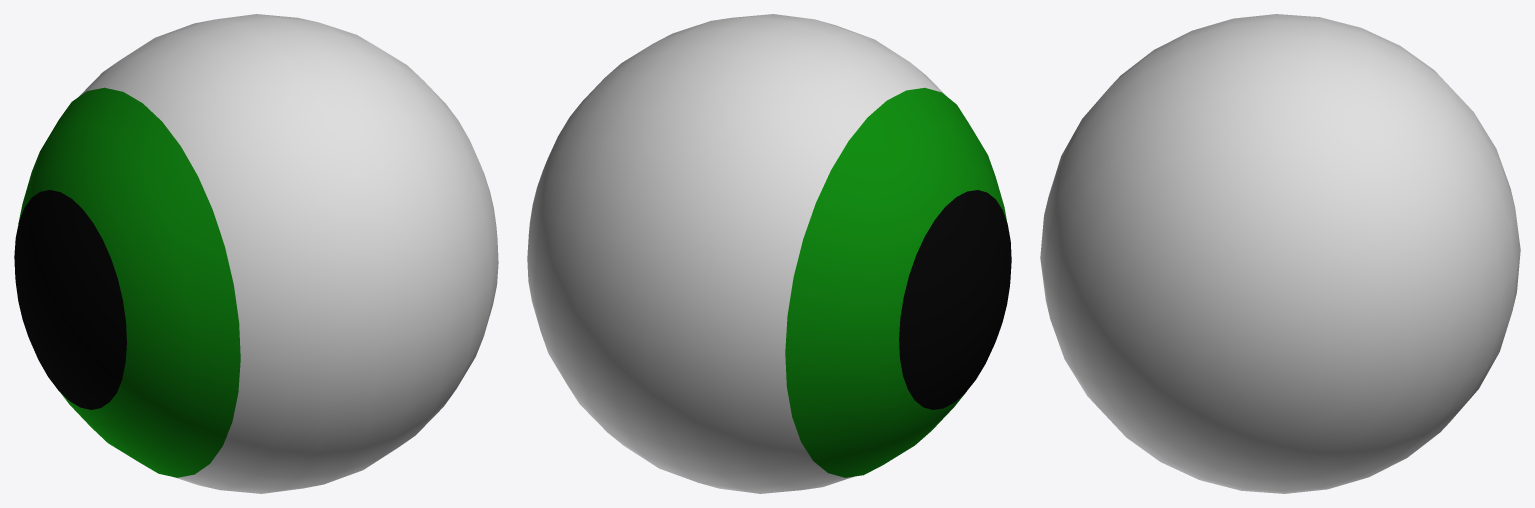
File: Eye_Am_Idle_Kid.obj
The picture shows the model from 3 angles, left to right: view 1: azimuth 30°, elevation 25°; view 2: azimuth 150°, elevation 25°; view 3: azimuth 270°, elevation 25°; orthographic projection.
Parts seen in each view (by area): view 1: Sphere004; view 2: Sphere004; view 3: Sphere004.
Part boxes in pixels (x1=…): Sphere004: x1=14, y1=14, x2=498, y2=493; Sphere004: x1=527, y1=14, x2=1011, y2=493; Sphere004: x1=1040, y1=14, x2=1520, y2=493.
Bounding box in the file's own units: 61.1 × 60.23 × 60.23.
